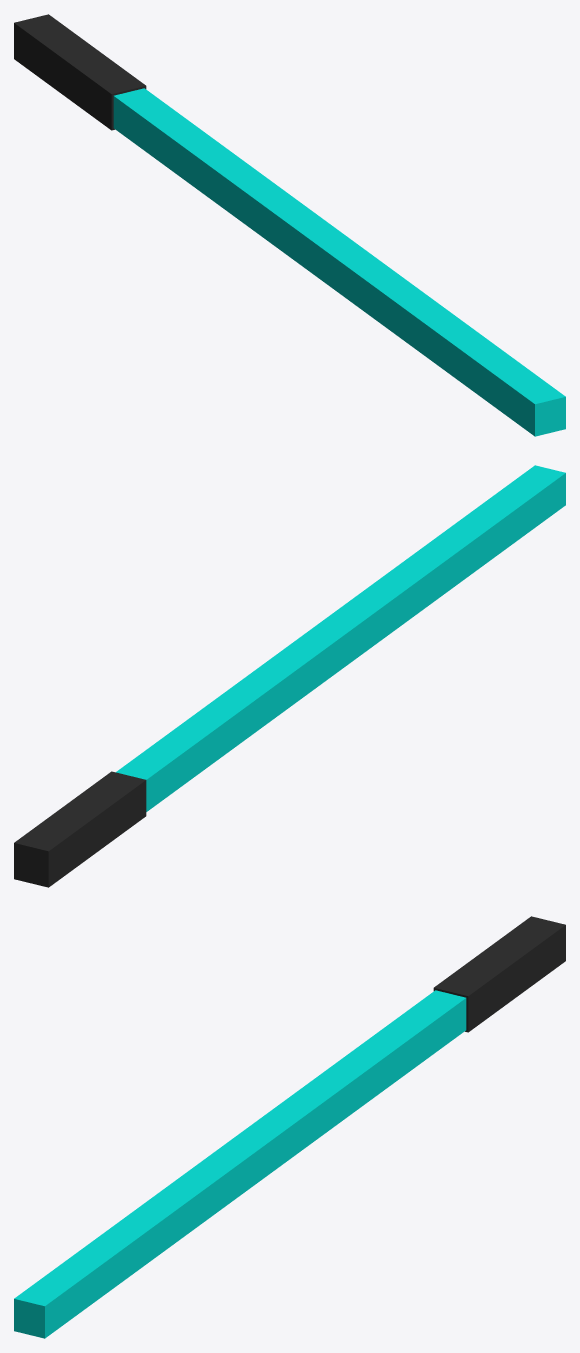
File: saberMesh.fbx
3 views of the same model, one above another, from view 1: azimuth 30°, elevation 25°; view 2: azimuth 150°, elevation 25°; view 3: azimuth 330°, elevation 25° (orthographic).
Parts seen in each view (by area): view 1: template; view 2: template; view 3: template.
Boxes of the visible parts, bbox=[...] form: template: bbox=[14, 14, 565, 436]; template: bbox=[14, 465, 565, 887]; template: bbox=[14, 916, 565, 1338].
Size of the model in its own units: 0.0465 by 0.0465 by 1.2.
